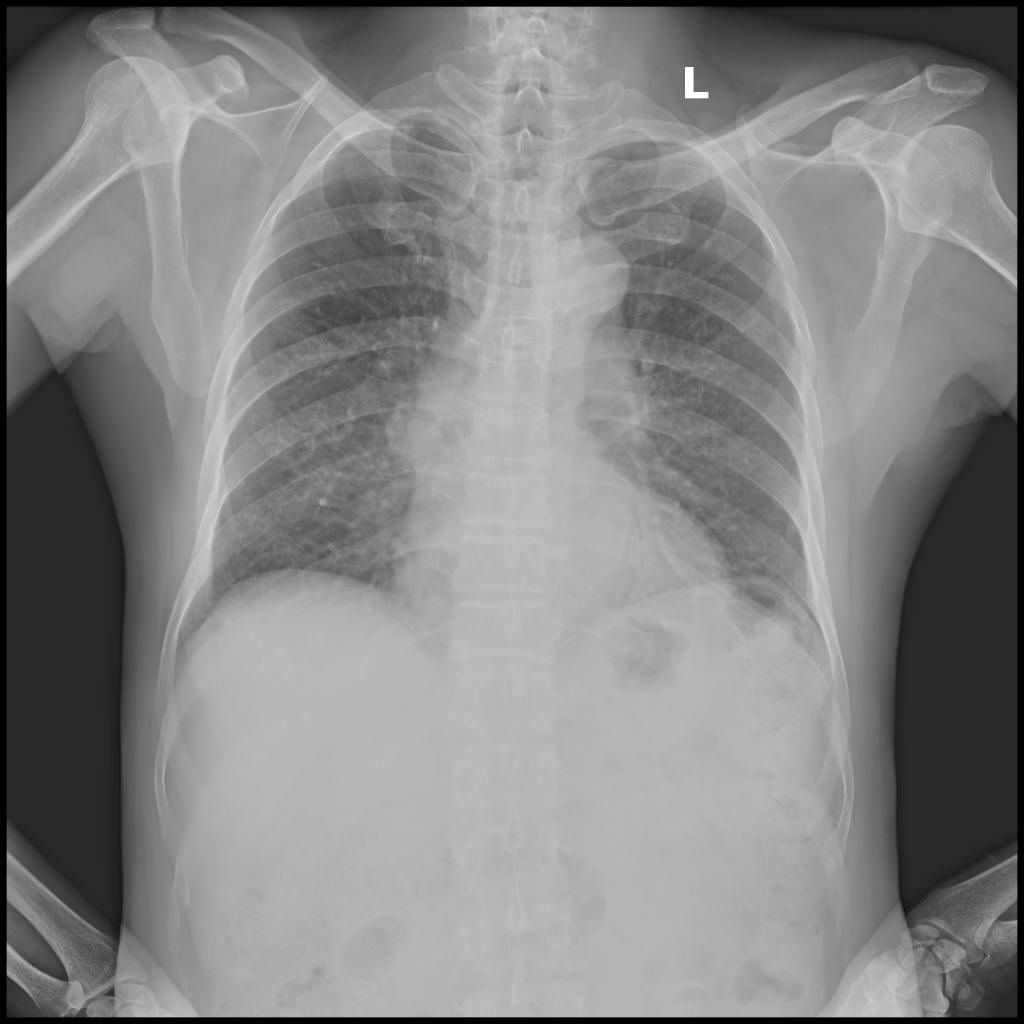Nodule: (385, 401, 439, 461)
